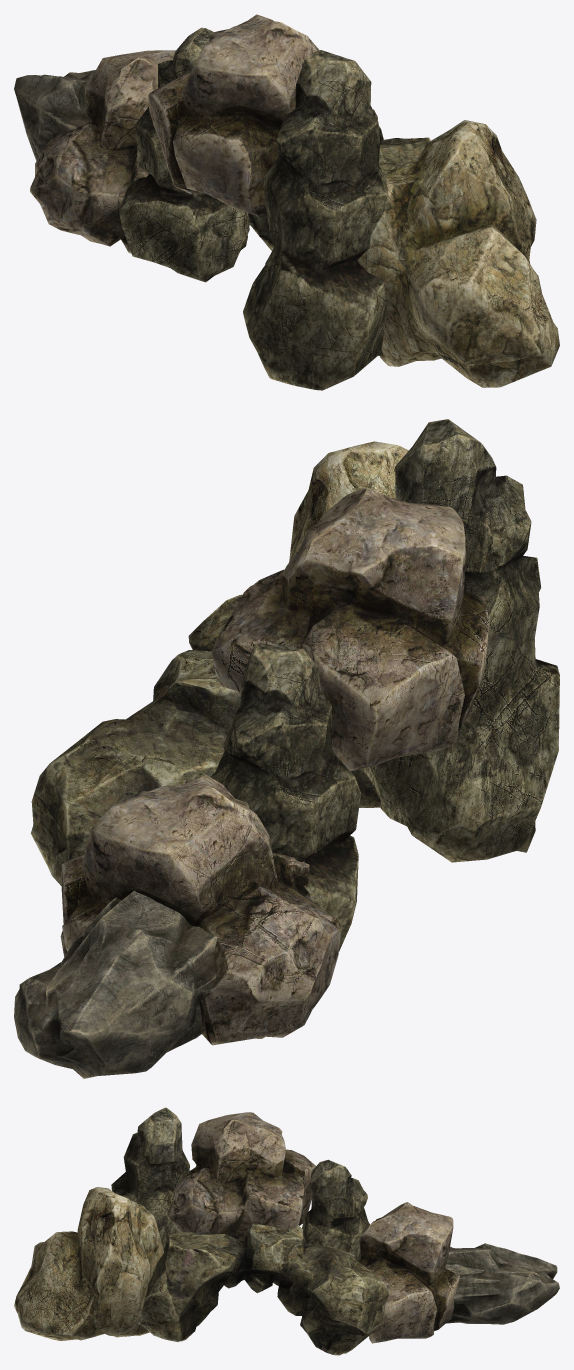
File: rocks1.fbx
3 views of the same model, one above another, from view 1: azimuth 30°, elevation 25°; view 2: azimuth 150°, elevation 25°; view 3: azimuth 270°, elevation 25° (orthographic). The views are drawn at different scales.
Parts seen in each view (by area): view 1: Rock_1, Rock_5, Rock_7_1, Rock_7, Rock_5_1, Rock_4, Rock_6; view 2: Rock_7_1, Rock_5, Rock_7, Rock_4, Rock_5_1, Rock_6, Rock_1; view 3: Rock_6, Rock_1, Rock_7_1, Rock_7, Rock_4, Rock_5, Rock_5_1.
Part boxes in pixels (<box>): Rock_1: <box>357,120,559,387</box>; Rock_5: <box>243,50,393,390</box>; Rock_7_1: <box>148,14,377,216</box>; Rock_7: <box>30,50,249,253</box>; Rock_5_1: <box>119,27,249,282</box>; Rock_4: <box>14,70,95,160</box>; Rock_6: <box>248,125,430,250</box>; Rock_7_1: <box>211,487,489,771</box>; Rock_5: <box>372,419,559,862</box>; Rock_7: <box>60,775,341,1045</box>; Rock_4: <box>14,890,217,1078</box>; Rock_5_1: <box>211,643,360,951</box>; Rock_6: <box>30,594,380,885</box>; Rock_1: <box>289,441,408,562</box>; Rock_6: <box>138,1223,389,1355</box>; Rock_1: <box>14,1187,163,1340</box>; Rock_7_1: <box>167,1112,315,1241</box>; Rock_7: <box>358,1202,459,1343</box>; Rock_4: <box>445,1243,559,1324</box>; Rock_5: <box>111,1107,189,1250</box>; Rock_5_1: <box>302,1159,369,1261</box>.
Bounding box in the file's own units: 7.46 × 8.48 × 19.89.
5 materials, 5 textured.
